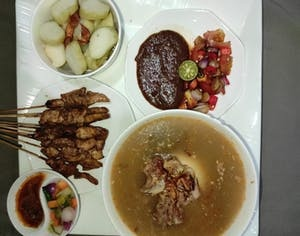sate_madura: (1, 86, 104, 183)
